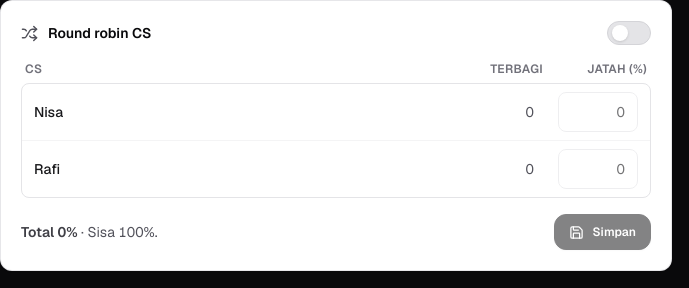
it: RoundRobinPanel › mengirim aktif + persen per CS lalu menampilkan hasil dari server
expect the field labelled "Nisa" is shown: met, box [558,92,638,132]
Click the switch named "Aktifkan round robin CS" at (629, 33), box [607,21,651,45]
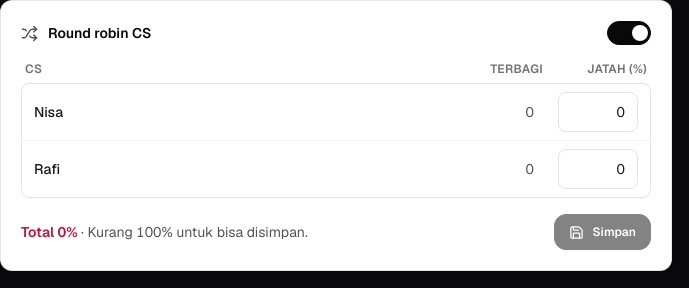
Replace the text in the field labelled "Nisa" with "70" at (598, 112), box [558,92,638,132]
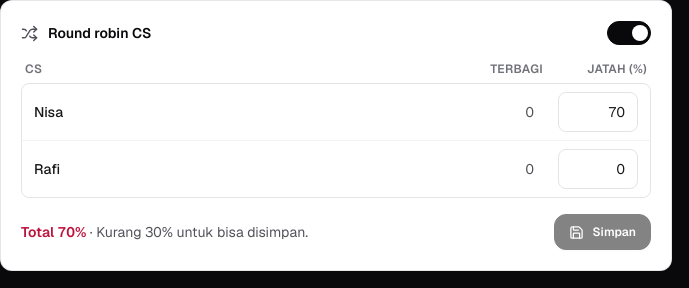
Replace the text in the field labelled "Rafi" with "30" at (598, 169), box [558,149,638,189]
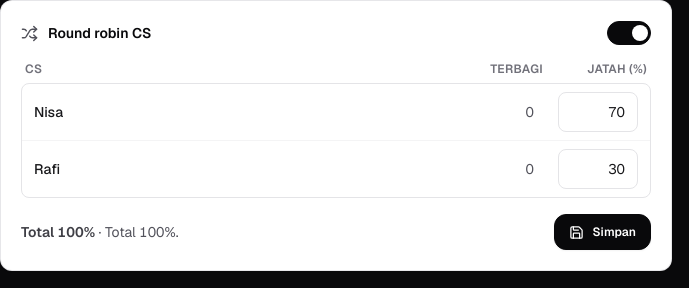
Click the button "Simpan" at (603, 232), box [554,214,651,250]
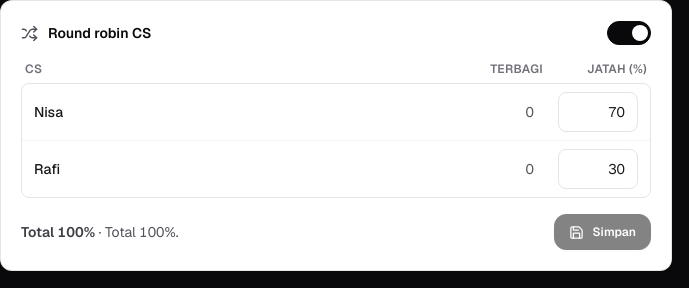
expect the button "Simpan" is disabled: met, box [554,214,651,250]
